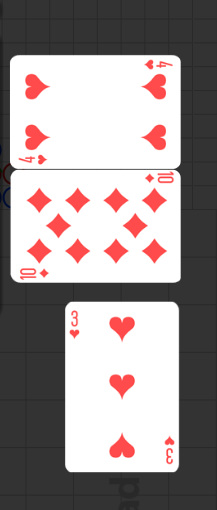10D: (19, 267, 51, 280)
3H: (163, 433, 175, 466)
4H: (142, 58, 173, 71)
